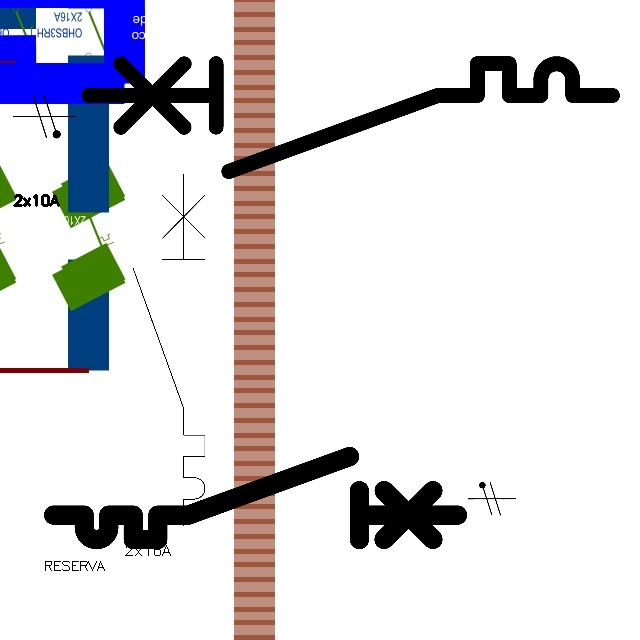interruptor_termomagnetico: (75, 50, 625, 184), (43, 446, 468, 550), (124, 165, 214, 535)
